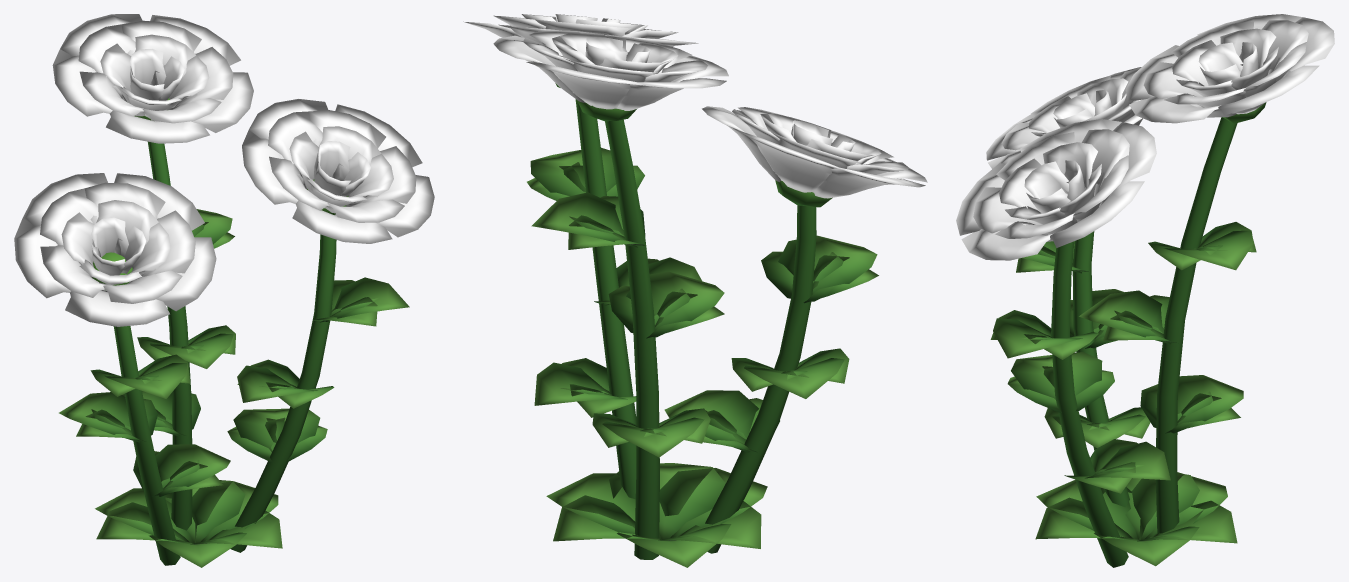
The model's file is flower_rose.glb.
3 renders of one model, left to right at view 1: azimuth 30°, elevation 25°; view 2: azimuth 150°, elevation 25°; view 3: azimuth 270°, elevation 25°, orthographic. The views are drawn at different scales.
Visible parts, largest first — view 1: flower_rose_top, flower_rose; view 2: flower_rose, flower_rose_top; view 3: flower_rose, flower_rose_top.
Boxes of the visible parts, <box> form: flower_rose_top: <box>14,14,434,326</box>; flower_rose: <box>59,98,409,567</box>; flower_rose: <box>527,83,878,567</box>; flower_rose_top: <box>463,14,927,198</box>; flower_rose: <box>990,102,1266,567</box>; flower_rose_top: <box>956,14,1334,260</box>.
Bounding box in the file's own units: 0.3379 × 0.3966 × 0.2676.
